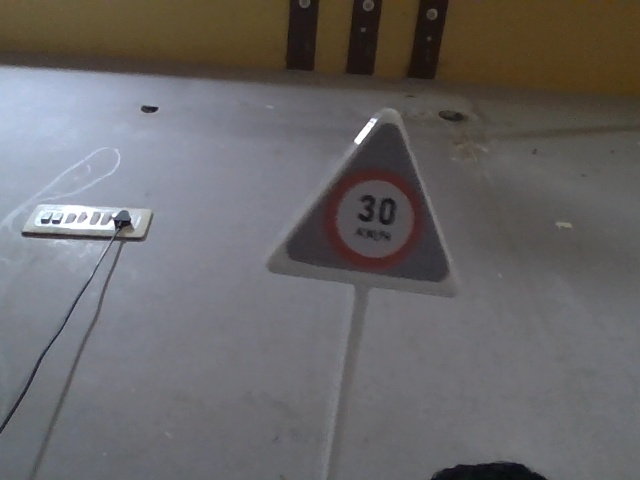speedlimit: (274, 116, 482, 305)
